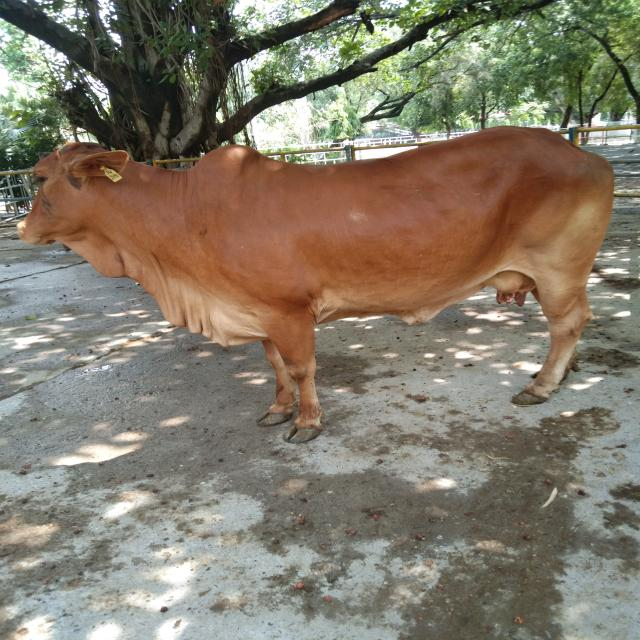1: (184, 141, 295, 172)
Hoof: (283, 423, 323, 444), (255, 410, 293, 427), (510, 389, 548, 406)
